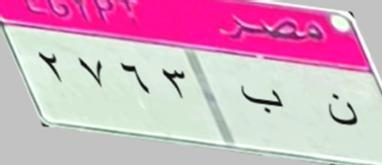2: (36, 47, 65, 88)
3: (156, 63, 189, 104)
6: (119, 56, 151, 104)
7: (78, 56, 112, 94)
baa: (236, 77, 288, 127)
noon: (319, 88, 362, 132)
